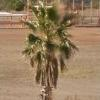Palm tree: (21, 2, 71, 97)
